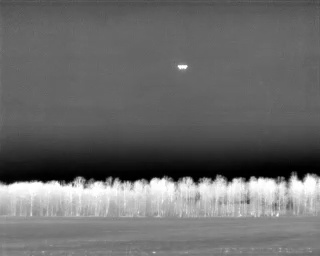DRONE: (174, 60, 191, 74)
